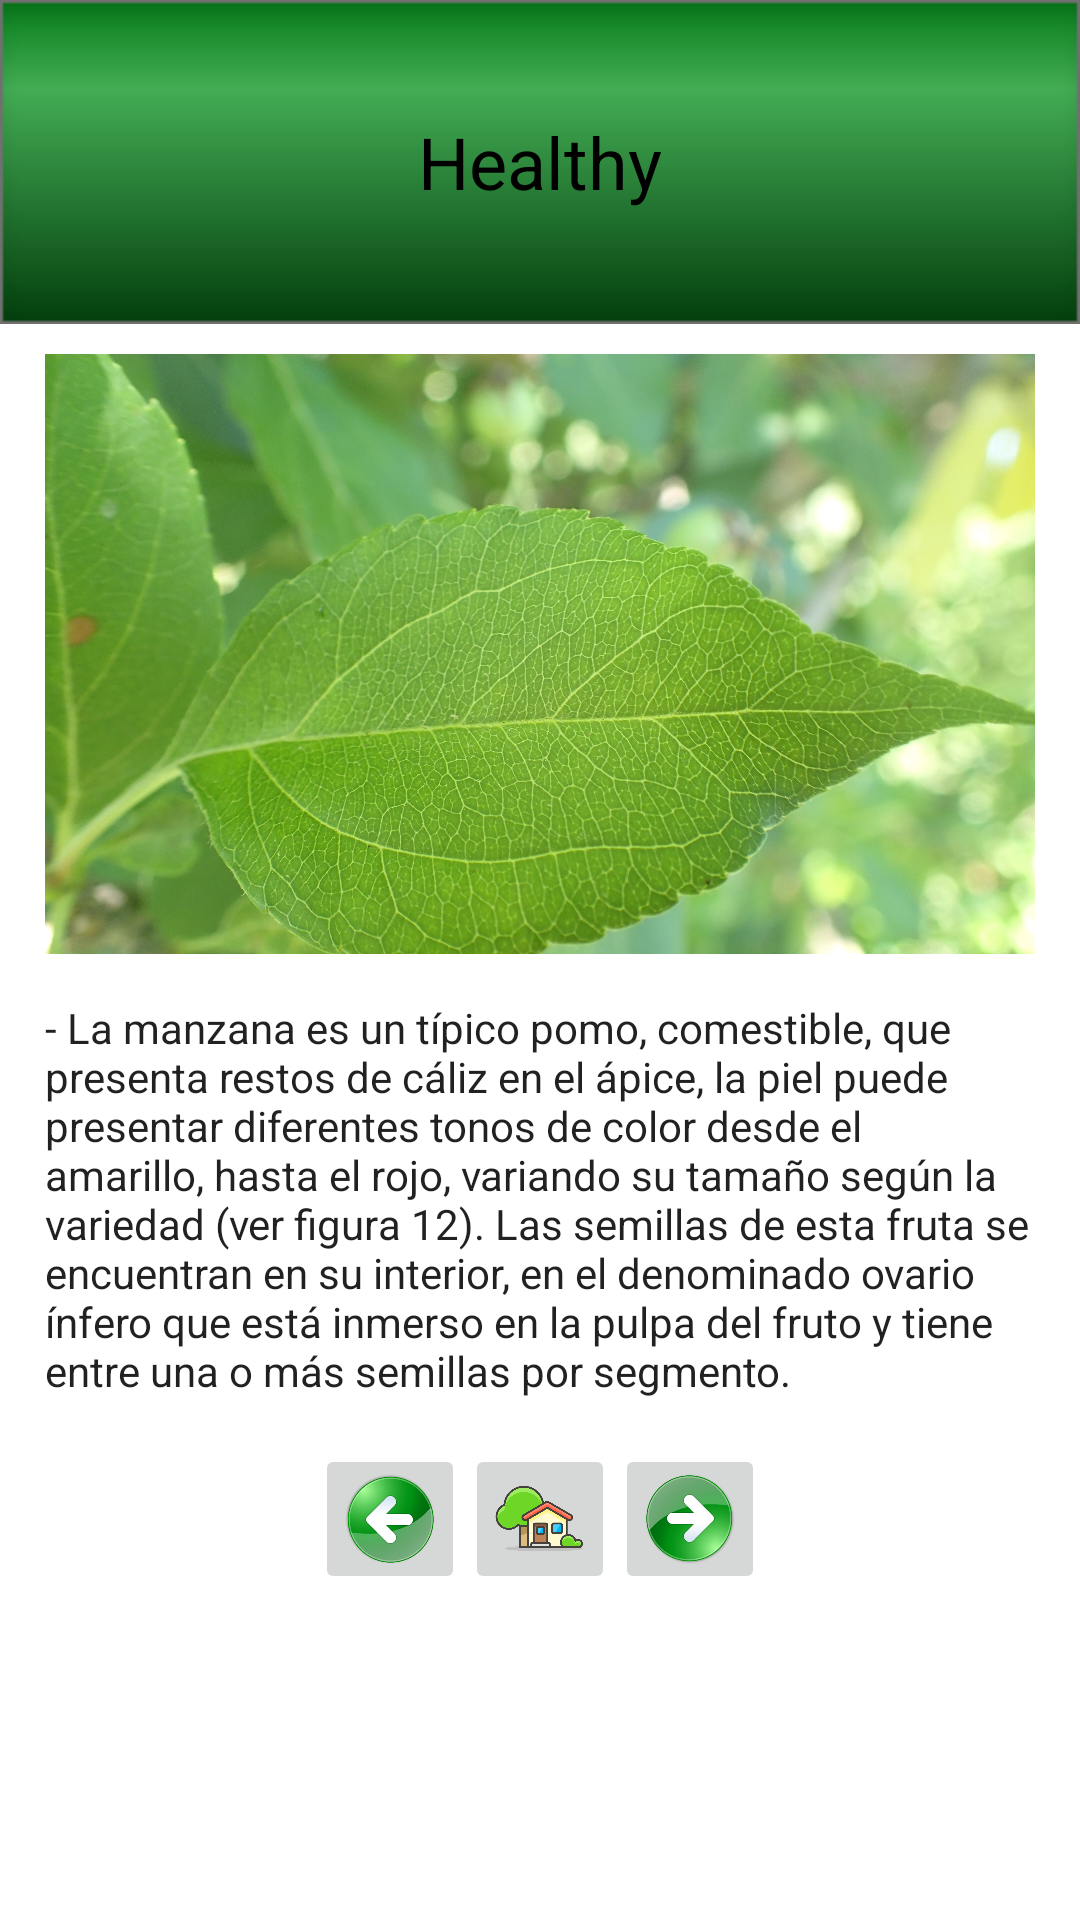

Icon click points for this 1080px×1920px phone screenshot, format (x=x, y=y):
casa inicio: (x=540, y=1519)
flecha derecha: (x=690, y=1519)
flecha izquierda: (x=390, y=1519)
